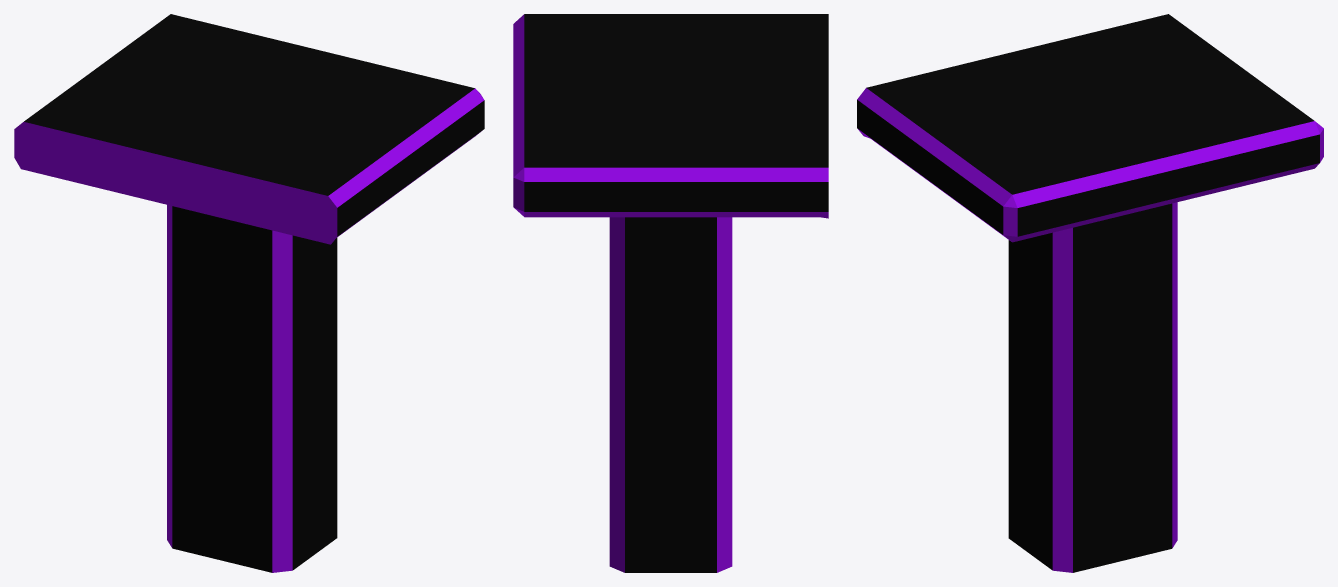
Rendered from mini_lift_animation.fbx.
3 renders of one model, left to right at view 1: azimuth 30°, elevation 25°; view 2: azimuth 150°, elevation 25°; view 3: azimuth 270°, elevation 25°, orthographic. The views are drawn at different scales.
Parts seen in each view (by area): view 1: pCube50; view 2: pCube50; view 3: pCube50.
Boxes of the visible parts, x1,y1,x2,y2 form: pCube50: [14, 14, 484, 572]; pCube50: [513, 14, 828, 572]; pCube50: [857, 14, 1323, 572].
Size of the model in its own units: 1.59 by 1.71 by 1.68.
